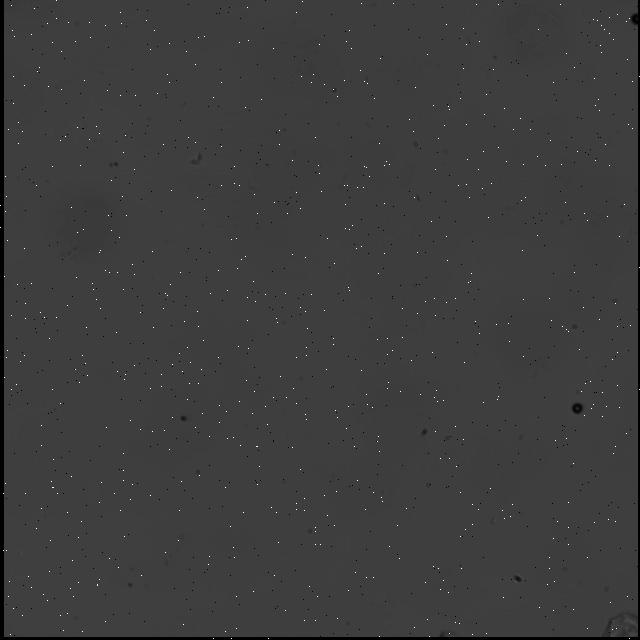microbeads: (568, 402, 584, 416), (629, 8, 637, 30)
